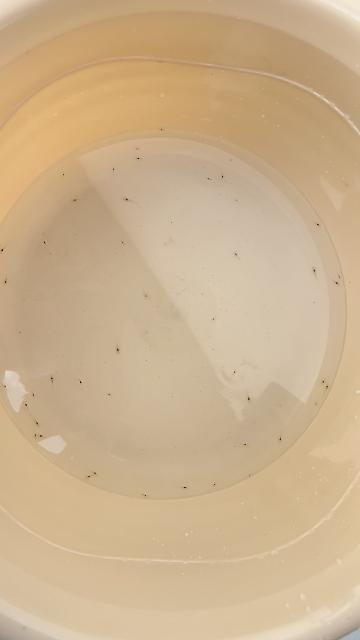benur: (36, 422, 41, 428), (123, 196, 129, 200), (205, 177, 211, 181), (80, 380, 84, 386), (137, 157, 142, 161), (233, 251, 237, 256), (232, 371, 236, 376), (278, 438, 282, 443), (94, 472, 99, 476), (23, 401, 27, 406), (117, 348, 120, 354), (248, 397, 251, 403), (72, 198, 76, 202), (42, 240, 46, 244), (312, 267, 316, 271), (336, 282, 340, 286), (244, 443, 248, 447), (144, 494, 148, 498), (86, 475, 90, 479), (2, 383, 6, 387), (317, 224, 322, 227), (321, 380, 324, 385), (184, 486, 189, 489), (37, 434, 42, 437), (0, 249, 3, 254), (221, 175, 224, 179), (159, 128, 163, 131), (326, 384, 329, 388), (35, 435, 38, 439), (33, 394, 36, 398), (50, 375, 53, 379), (3, 281, 6, 285), (212, 484, 215, 487), (113, 166, 115, 170), (108, 394, 112, 396), (121, 241, 123, 244), (62, 173, 64, 176), (135, 148, 138, 150), (211, 318, 214, 320), (339, 276, 341, 279), (315, 403, 317, 406), (235, 199, 237, 201), (248, 474, 250, 476), (145, 295, 147, 297)
